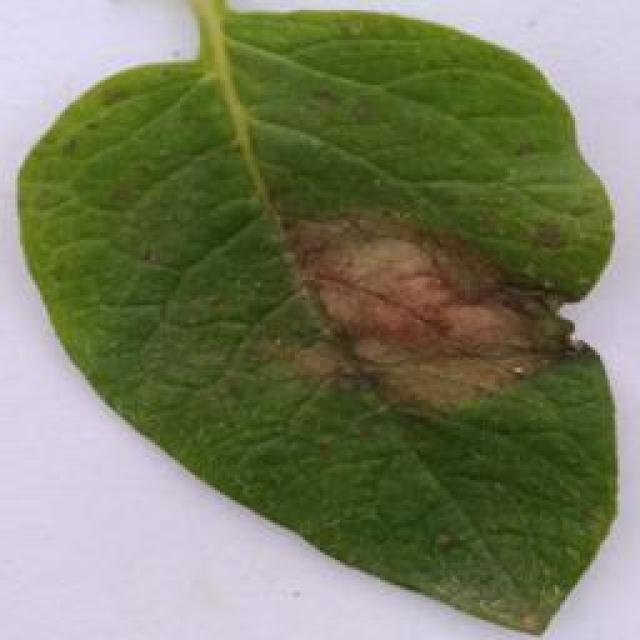Potato_Late_Blight: (15, 11, 612, 636)
